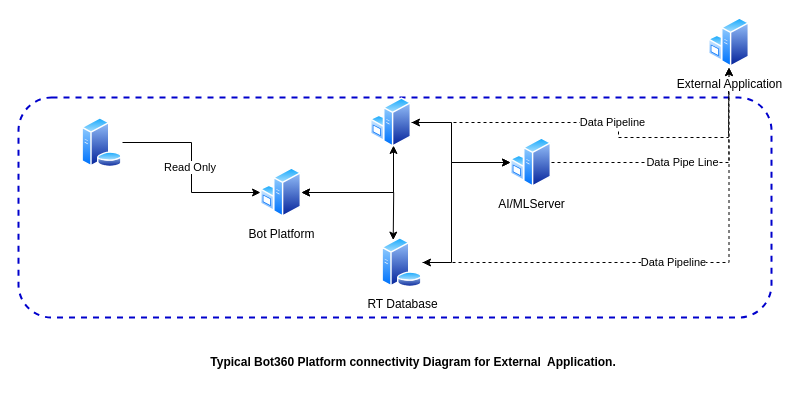
Image size: 799x394. Some labels were removed from this diagram. The centre of each missing label's shape, as x and y in pixels:
"CBS DB DR" belongs at pixel 101 142.
"RT Engine" belongs at pixel 390 122.
